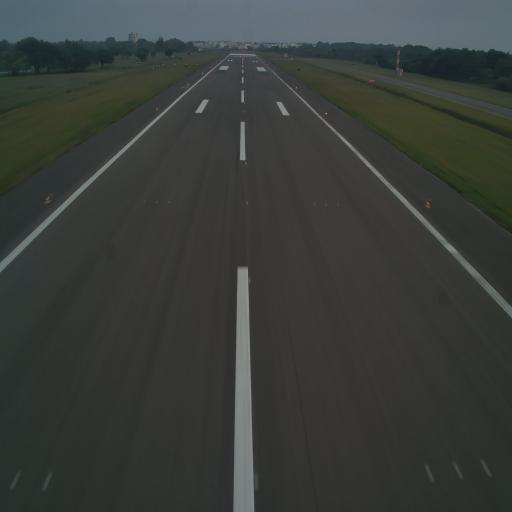off: (478, 456, 498, 488), (449, 450, 466, 483), (8, 466, 26, 490), (42, 461, 56, 491), (423, 464, 439, 487), (248, 470, 262, 492), (153, 195, 162, 206), (333, 198, 341, 210), (164, 196, 170, 207), (312, 200, 318, 211), (141, 197, 147, 207), (324, 198, 328, 210)
on: (422, 196, 432, 211), (242, 197, 251, 209), (246, 272, 253, 286), (43, 191, 51, 203), (244, 158, 248, 169)
